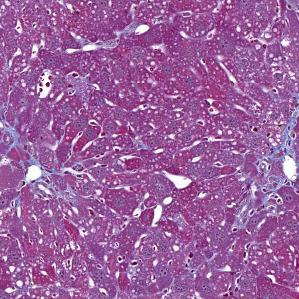fibrosis: (242, 154, 283, 212)
